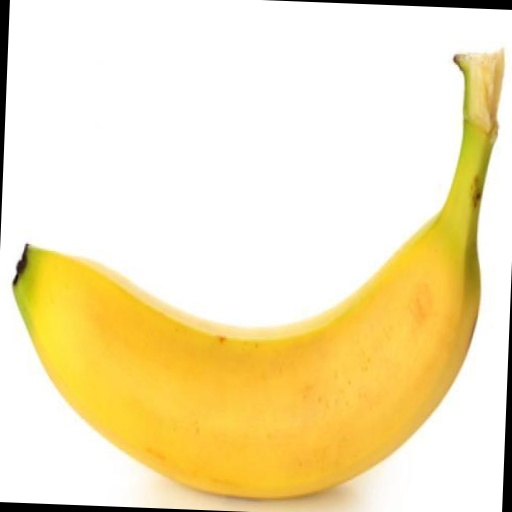fruit: (0, 160, 106, 506)
